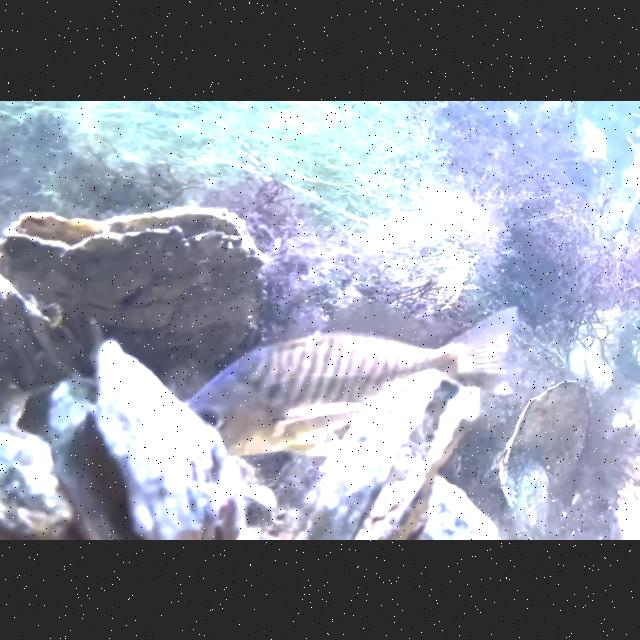Oyster-Closed: (502, 379, 594, 513), (0, 422, 72, 537)
Oyster-Open: (46, 337, 245, 539), (0, 202, 262, 346), (303, 366, 482, 538)
